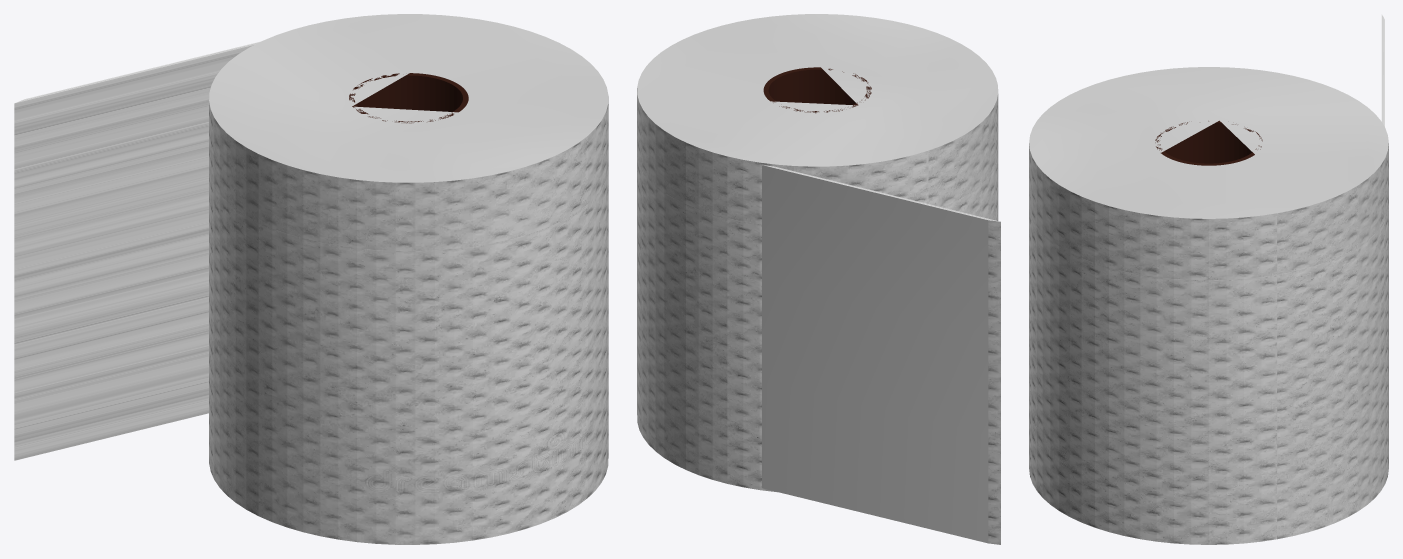
The model's file is papel_baño.obj.
3 views of the same model, side by side, from view 1: azimuth 30°, elevation 25°; view 2: azimuth 150°, elevation 25°; view 3: azimuth 270°, elevation 25° (orthographic). The views are drawn at different scales.
Visible parts, largest first — view 1: Cylinder, Cylinder.001; view 2: Cylinder, Cylinder.001; view 3: Cylinder, Cylinder.001.
Part boxes in pixels (x1,y1,x2,y2): Cylinder: [14, 14, 608, 544]; Cylinder.001: [349, 73, 468, 123]; Cylinder: [637, 14, 1000, 544]; Cylinder.001: [763, 67, 871, 113]; Cylinder: [1029, 14, 1388, 544]; Cylinder.001: [1155, 120, 1262, 165].
Size of the model in its own units: 2.72 by 2 by 2.
